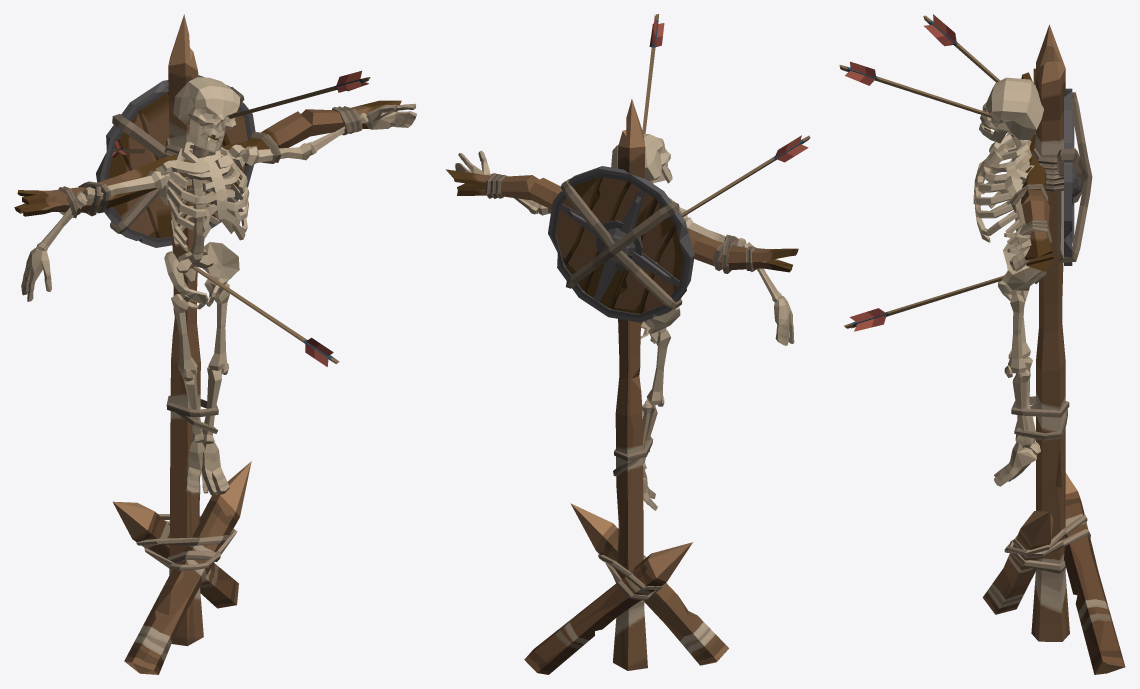
File: bog_effigy.gltf
3 renders of one model, left to right at view 1: azimuth 30°, elevation 25°; view 2: azimuth 150°, elevation 25°; view 3: azimuth 270°, elevation 25°, orthographic. The views are drawn at different scales.
Parts seen in each view (by area): view 1: bog_effigy; view 2: bog_effigy; view 3: bog_effigy.
Part boxes in pixels (<box>): bog_effigy: <box>14,14,416,674</box>; bog_effigy: <box>446,14,810,674</box>; bog_effigy: <box>839,14,1125,674</box>.
Bounding box in the file's own units: 1.85 × 2.88 × 1.21.
Materials: 1 (1 with a texture image).
